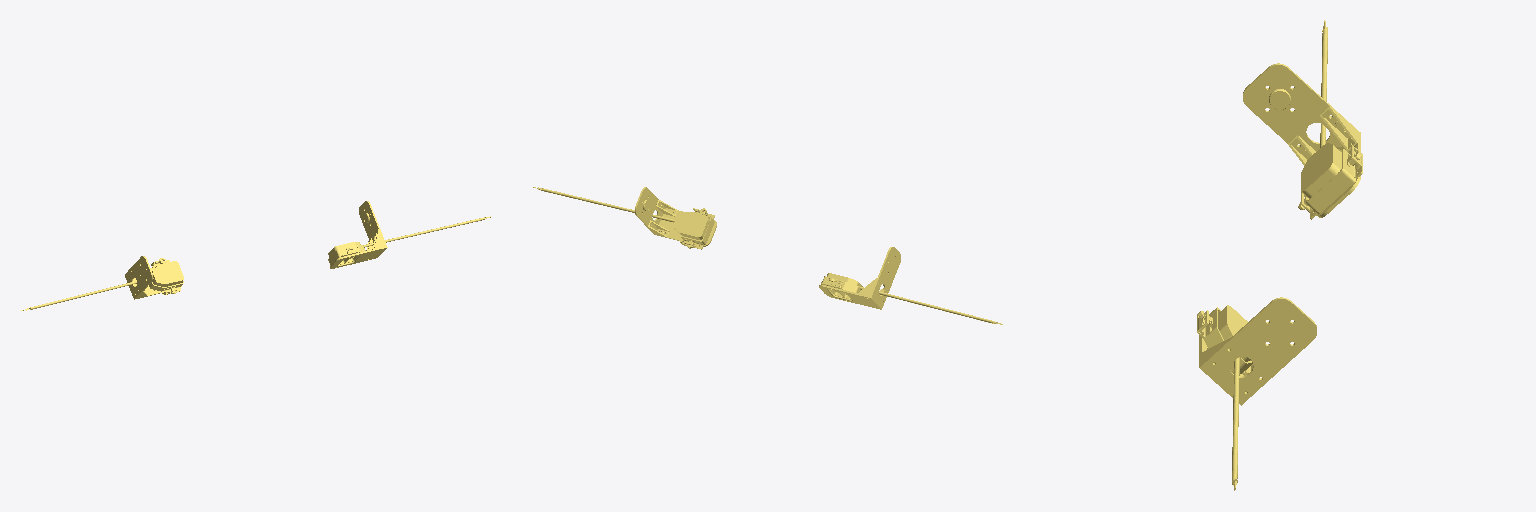
The robot description file, URDF, robot "panda":
<?xml version="1.0" ?>
<!-- =================================================================================== -->
<!-- |    This document was autogenerated by xacro from panda_arm.urdf.xacro           | -->
<!-- |    EDITING THIS FILE BY HAND IS NOT RECOMMENDED                                 | -->
<!-- =================================================================================== -->
<robot name="panda" xmlns:xacro="http://www.ros.org/wiki/xacro">
  <link name="world"/>
  <joint name="world_to_robot1" type="fixed">
    <origin rpy="0 0 0" xyz="0 0 0"/>
    <parent link="world"/>
    <child link="panda1_link0"/>
    <axis xyz="0 0 0"/>
  </joint>
  <link name="panda1_link0">
    <visual>
      <geometry>
        <mesh filename="package://franka_description/meshes/visual/link0.dae"/>
      </geometry>
    </visual>
    <collision>
      <geometry>
        <mesh filename="package://franka_description/meshes/collision/link0.stl"/>
      </geometry>
    </collision>
  </link>
  <link name="panda1_link1">
    <visual>
      <geometry>
        <mesh filename="package://franka_description/meshes/visual/link1.dae"/>
      </geometry>
    </visual>
    <collision>
      <geometry>
        <mesh filename="package://franka_description/meshes/collision/link1.stl"/>
      </geometry>
    </collision>
  </link>
  <joint name="franka1_panda_joint1" type="revolute">
    <safety_controller k_position="100.0" k_velocity="40.0" soft_lower_limit="-2.8973" soft_upper_limit="2.8973"/>
    <origin rpy="0 0 0" xyz="0 0 0.333"/>
    <parent link="panda1_link0"/>
    <child link="panda1_link1"/>
    <axis xyz="0 0 1"/>
    <limit effort="87" lower="-2.8973" upper="2.8973" velocity="2.1750"/>
  </joint>
  <link name="panda1_link2">
    <visual>
      <geometry>
        <mesh filename="package://franka_description/meshes/visual/link2.dae"/>
      </geometry>
    </visual>
    <collision>
      <geometry>
        <mesh filename="package://franka_description/meshes/collision/link2.stl"/>
      </geometry>
    </collision>
  </link>
  <joint name="franka1_panda_joint2" type="revolute">
    <safety_controller k_position="100.0" k_velocity="40.0" soft_lower_limit="-1.7628" soft_upper_limit="1.7628"/>
    <origin rpy="-1.57079632679 0 0" xyz="0 0 0"/>
    <parent link="panda1_link1"/>
    <child link="panda1_link2"/>
    <axis xyz="0 0 1"/>
    <limit effort="87" lower="-1.7628" upper="1.7628" velocity="2.1750"/>
  </joint>
  <link name="panda1_link3">
    <visual>
      <geometry>
        <mesh filename="package://franka_description/meshes/visual/link3.dae"/>
      </geometry>
    </visual>
    <collision>
      <geometry>
        <mesh filename="package://franka_description/meshes/collision/link3.stl"/>
      </geometry>
    </collision>
  </link>
  <joint name="franka1_panda_joint3" type="revolute">
    <safety_controller k_position="100.0" k_velocity="40.0" soft_lower_limit="-2.8973" soft_upper_limit="2.8973"/>
    <origin rpy="1.57079632679 0 0" xyz="0 -0.316 0"/>
    <parent link="panda1_link2"/>
    <child link="panda1_link3"/>
    <axis xyz="0 0 1"/>
    <limit effort="87" lower="-2.8973" upper="2.8973" velocity="2.1750"/>
  </joint>
  <link name="panda1_link4">
    <visual>
      <geometry>
        <mesh filename="package://franka_description/meshes/visual/link4.dae"/>
      </geometry>
    </visual>
    <collision>
      <geometry>
        <mesh filename="package://franka_description/meshes/collision/link4.stl"/>
      </geometry>
    </collision>
  </link>
  <joint name="franka1_panda_joint4" type="revolute">
    <safety_controller k_position="100.0" k_velocity="40.0" soft_lower_limit="-3.0718" soft_upper_limit="-0.0698"/>
    <origin rpy="1.57079632679 0 0" xyz="0.0825 0 0"/>
    <parent link="panda1_link3"/>
    <child link="panda1_link4"/>
    <axis xyz="0 0 1"/>
    <limit effort="87" lower="-3.0718" upper="-0.0698" velocity="2.1750"/>
  </joint>
  <link name="panda1_link5">
    <visual>
      <geometry>
        <mesh filename="package://franka_description/meshes/visual/link5.dae"/>
      </geometry>
    </visual>
    <collision>
      <geometry>
        <mesh filename="package://franka_description/meshes/collision/link5.stl"/>
      </geometry>
    </collision>
  </link>
  <joint name="franka1_panda_joint5" type="revolute">
    <safety_controller k_position="100.0" k_velocity="40.0" soft_lower_limit="-2.8973" soft_upper_limit="2.8973"/>
    <origin rpy="-1.57079632679 0 0" xyz="-0.0825 0.384 0"/>
    <parent link="panda1_link4"/>
    <child link="panda1_link5"/>
    <axis xyz="0 0 1"/>
    <limit effort="12" lower="-2.8973" upper="2.8973" velocity="2.6100"/>
  </joint>
  <link name="panda1_link6">
    <visual>
      <geometry>
        <mesh filename="package://franka_description/meshes/visual/link6.dae"/>
      </geometry>
    </visual>
    <collision>
      <geometry>
        <mesh filename="package://franka_description/meshes/collision/link6.stl"/>
      </geometry>
    </collision>
  </link>
  <joint name="franka1_panda_joint6" type="revolute">
    <safety_controller k_position="100.0" k_velocity="40.0" soft_lower_limit="-0.0175" soft_upper_limit="3.7525"/>
    <origin rpy="1.57079632679 0 0" xyz="0 0 0"/>
    <parent link="panda1_link5"/>
    <child link="panda1_link6"/>
    <axis xyz="0 0 1"/>
    <limit effort="12" lower="-0.0175" upper="3.7525" velocity="2.6100"/>
  </joint>
  <link name="panda1_link7">
    <visual>
      <geometry>
        <mesh filename="package://franka_description/meshes/visual/link7.dae"/>
      </geometry>
    </visual>
    <collision>
      <geometry>
        <mesh filename="package://franka_description/meshes/collision/link7.stl"/>
      </geometry>
    </collision>
  </link>
  <joint name="franka1_panda_joint7" type="revolute">
    <safety_controller k_position="100.0" k_velocity="40.0" soft_lower_limit="-2.8973" soft_upper_limit="2.8973"/>
    <origin rpy="1.57079632679 0 0" xyz="0.088 0 0"/>
    <parent link="panda1_link6"/>
    <child link="panda1_link7"/>
    <axis xyz="0 0 1"/>
    <limit effort="12" lower="-2.8973" upper="2.8973" velocity="2.6100"/>
  </joint>
  <link name="panda1_link8"/>
  <joint name="franka_panda_joint8" type="fixed">
    <origin rpy="0 0 0" xyz="0 0 0.107"/>
    <parent link="panda1_link7"/>
    <child link="panda1_link8"/>
    <axis xyz="0 0 0"/>
  </joint>
  <link name="ee1_link"/>
  <joint name="franka1_panda8_to_ee" type="fixed">
    <origin rpy="0 0 0.78539815" xyz="0 0 0"/>
    <parent link="panda1_link8"/>
    <child link="ee1_link"/>
    <axis xyz="0 0 0"/>
  </joint>
  <link name="franka1_instrument1">
    <visual>
      <geometry>
        <mesh filename="package://franka_description/meshes/instrument/instrument1.stl"/>
      </geometry>
      <material name="">
        <color rgba="1 0.93 0.54 1" />
      </material>
    </visual>
    <collision>
      <geometry>
        <mesh filename="package://franka_description/meshes/instrument/instrument1.stl"/>
      </geometry>
    </collision>
  </link>
  <joint name="franka1_ee_to_instrument1" type="fixed">
    <origin rpy="0 0 0" xyz="0 0 0"/>
    <parent link="ee1_link"/>
    <child link="franka1_instrument1"/>
    <axis xyz="0 0 0"/>
  </joint>
  <link name="franka1_instrument2">
    <visual>
      <geometry>
        <mesh filename="package://franka_description/meshes/instrument/2.stl"/>
      </geometry>
      <material name="">
        <color rgba="1 0.93 0.54 1" />
      </material>
    </visual>
    <collision>
      <geometry>
        <mesh filename="package://franka_description/meshes/instrument/2.stl"/>
      </geometry>
    </collision>
  </link>
  <joint name="franka1_instrument1_to_2" type="revolute">
    <origin rpy="-0.0117919678 0 0" xyz="0 -0.09102 0.36"/>
    <parent link="franka1_instrument1"/>
    <child link="franka1_instrument2"/>
    <axis xyz="0 0 1"/>
    <limit effort="12" lower="-3.14" upper="3.14" velocity="2.6100"/>
  </joint>
  <link name="franka1_instrument3">
    <visual>
      <geometry>
        <mesh filename="package://franka_description/meshes/instrument/3.stl"/>
      </geometry>
      <material name="">
        <color rgba="1 0.93 0.54 1" />
      </material>
    </visual>
    <collision>
      <geometry>
        <mesh filename="package://franka_description/meshes/instrument/3.stl"/>
      </geometry>
    </collision>
  </link>
  <joint name="franka1_instrument2_to_3" type="revolute">
    <origin rpy="0 0 0" xyz="0 0 0.009"/>
    <parent link="franka1_instrument2"/>
    <child link="franka1_instrument3"/>
    <axis xyz="1 0 0"/>
    <limit effort="12" lower="-1.5" upper="1.5" velocity="2.6100"/>
  </joint>
  <link name="franka1_instrument4">
    <visual>
      <geometry>
        <mesh filename="package://franka_description/meshes/instrument/4.stl"/>
      </geometry>
      <material name="">
        <color rgba="1 0.93 0.54 1" />
      </material>
    </visual>
    <collision>
      <geometry>
        <mesh filename="package://franka_description/meshes/instrument/4.stl"/>
      </geometry>
    </collision>
  </link>
  <joint name="franka1_instrument3_to_4" type="revolute">
    <origin rpy="0 0 0" xyz="0 0 0.009"/>
    <parent link="franka1_instrument3"/>
    <child link="franka1_instrument4"/>
    <axis xyz="0 1 0"/>
    <limit effort="12" lower="-1.5" upper="1.5" velocity="2.6100"/>
  </joint>
  <link name="franka1_tool"/>
  <joint name="franka1_instrument4_to_tool" type="fixed">
    <origin rpy="0 0 0" xyz="0 0 0.022"/>
    <parent link="franka1_instrument4"/>
    <child link="franka1_tool"/>
    <axis xyz="0 0 0"/>
  </joint>
  <link name="franka1_tool_ik"/>
  <joint name="franka1_instrument1_to_toolik" type="fixed">
    <origin rpy="-0.0117919678 0 0" xyz="0 -0.09102 0.4"/>
    <parent link="franka1_instrument1"/>
    <child link="franka1_tool_ik"/>
    <axis xyz="0 0 0"/>
  </joint>














  <joint name="world_to_robot2" type="fixed">
    <origin rpy="0 0 3.1415926" xyz="1.5 0 0"/>
    <parent link="world"/>
    <child link="panda2_link0"/>
    <axis xyz="0 0 0"/>
  </joint>
  <link name="panda2_link0">
    <visual>
      <geometry>
        <mesh filename="package://franka_description/meshes/visual/link0.dae"/>
      </geometry>
    </visual>
    <collision>
      <geometry>
        <mesh filename="package://franka_description/meshes/collision/link0.stl"/>
      </geometry>
    </collision>
  </link>
  <link name="panda2_link1">
    <visual>
      <geometry>
        <mesh filename="package://franka_description/meshes/visual/link1.dae"/>
      </geometry>
    </visual>
    <collision>
      <geometry>
        <mesh filename="package://franka_description/meshes/collision/link1.stl"/>
      </geometry>
    </collision>
  </link>
  <joint name="franka2_panda_joint1" type="revolute">
    <safety_controller k_position="100.0" k_velocity="40.0" soft_lower_limit="-2.8973" soft_upper_limit="2.8973"/>
    <origin rpy="0 0 0" xyz="0 0 0.333"/>
    <parent link="panda2_link0"/>
    <child link="panda2_link1"/>
    <axis xyz="0 0 1"/>
    <limit effort="87" lower="-2.8973" upper="2.8973" velocity="2.1750"/>
  </joint>
  <link name="panda2_link2">
    <visual>
      <geometry>
        <mesh filename="package://franka_description/meshes/visual/link2.dae"/>
      </geometry>
    </visual>
    <collision>
      <geometry>
        <mesh filename="package://franka_description/meshes/collision/link2.stl"/>
      </geometry>
    </collision>
  </link>
  <joint name="franka2_panda_joint2" type="revolute">
    <safety_controller k_position="100.0" k_velocity="40.0" soft_lower_limit="-1.7628" soft_upper_limit="1.7628"/>
    <origin rpy="-1.57079632679 0 0" xyz="0 0 0"/>
    <parent link="panda2_link1"/>
    <child link="panda2_link2"/>
    <axis xyz="0 0 1"/>
    <limit effort="87" lower="-1.7628" upper="1.7628" velocity="2.1750"/>
  </joint>
  <link name="panda2_link3">
    <visual>
      <geometry>
        <mesh filename="package://franka_description/meshes/visual/link3.dae"/>
      </geometry>
    </visual>
    <collision>
      <geometry>
        <mesh filename="package://franka_description/meshes/collision/link3.stl"/>
      </geometry>
    </collision>
  </link>
  <joint name="franka2_panda_joint3" type="revolute">
    <safety_controller k_position="100.0" k_velocity="40.0" soft_lower_limit="-2.8973" soft_upper_limit="2.8973"/>
    <origin rpy="1.57079632679 0 0" xyz="0 -0.316 0"/>
    <parent link="panda2_link2"/>
    <child link="panda2_link3"/>
    <axis xyz="0 0 1"/>
    <limit effort="87" lower="-2.8973" upper="2.8973" velocity="2.1750"/>
  </joint>
  <link name="panda2_link4">
    <visual>
      <geometry>
        <mesh filename="package://franka_description/meshes/visual/link4.dae"/>
      </geometry>
    </visual>
    <collision>
      <geometry>
        <mesh filename="package://franka_description/meshes/collision/link4.stl"/>
      </geometry>
    </collision>
  </link>
  <joint name="franka2_panda_joint4" type="revolute">
    <safety_controller k_position="100.0" k_velocity="40.0" soft_lower_limit="-3.0718" soft_upper_limit="-0.0698"/>
    <origin rpy="1.57079632679 0 0" xyz="0.0825 0 0"/>
    <parent link="panda2_link3"/>
    <child link="panda2_link4"/>
    <axis xyz="0 0 1"/>
    <limit effort="87" lower="-3.0718" upper="-0.0698" velocity="2.1750"/>
  </joint>
  <link name="panda2_link5">
    <visual>
      <geometry>
        <mesh filename="package://franka_description/meshes/visual/link5.dae"/>
      </geometry>
    </visual>
    <collision>
      <geometry>
        <mesh filename="package://franka_description/meshes/collision/link5.stl"/>
      </geometry>
    </collision>
  </link>
  <joint name="franka2_panda_joint5" type="revolute">
    <safety_controller k_position="100.0" k_velocity="40.0" soft_lower_limit="-2.8973" soft_upper_limit="2.8973"/>
    <origin rpy="-1.57079632679 0 0" xyz="-0.0825 0.384 0"/>
    <parent link="panda2_link4"/>
    <child link="panda2_link5"/>
    <axis xyz="0 0 1"/>
    <limit effort="12" lower="-2.8973" upper="2.8973" velocity="2.6100"/>
  </joint>
  <link name="panda2_link6">
    <visual>
      <geometry>
        <mesh filename="package://franka_description/meshes/visual/link6.dae"/>
      </geometry>
    </visual>
    <collision>
      <geometry>
        <mesh filename="package://franka_description/meshes/collision/link6.stl"/>
      </geometry>
    </collision>
  </link>
  <joint name="franka2_panda_joint6" type="revolute">
    <safety_controller k_position="100.0" k_velocity="40.0" soft_lower_limit="-0.0175" soft_upper_limit="3.7525"/>
    <origin rpy="1.57079632679 0 0" xyz="0 0 0"/>
    <parent link="panda2_link5"/>
    <child link="panda2_link6"/>
    <axis xyz="0 0 1"/>
    <limit effort="12" lower="-0.0175" upper="3.7525" velocity="2.6100"/>
  </joint>
  <link name="panda2_link7">
    <visual>
      <geometry>
        <mesh filename="package://franka_description/meshes/visual/link7.dae"/>
      </geometry>
    </visual>
    <collision>
      <geometry>
        <mesh filename="package://franka_description/meshes/collision/link7.stl"/>
      </geometry>
    </collision>
  </link>
  <joint name="franka2_panda_joint7" type="revolute">
    <safety_controller k_position="100.0" k_velocity="40.0" soft_lower_limit="-2.8973" soft_upper_limit="2.8973"/>
    <origin rpy="1.57079632679 0 0" xyz="0.088 0 0"/>
    <parent link="panda2_link6"/>
    <child link="panda2_link7"/>
    <axis xyz="0 0 1"/>
    <limit effort="12" lower="-2.8973" upper="2.8973" velocity="2.6100"/>
  </joint>
  <link name="panda2_link8"/>
  <joint name="franka2_panda_joint8" type="fixed">
    <origin rpy="0 0 0" xyz="0 0 0.107"/>
    <parent link="panda2_link7"/>
    <child link="panda2_link8"/>
    <axis xyz="0 0 0"/>
  </joint>
  <link name="ee2_link"/>
  <joint name="franka2_panda8_to_ee" type="fixed">
    <origin rpy="0 0 0.78539815" xyz="0 0 0"/>
    <parent link="panda2_link8"/>
    <child link="ee2_link"/>
    <axis xyz="0 0 0"/>
  </joint>
  <link name="franka2_instrument1">
    <visual>
      <geometry>
        <mesh filename="package://franka_description/meshes/instrument/instrument1.stl"/>
      </geometry>
      <material name="">
        <color rgba="1 0.93 0.54 1" />
      </material>
    </visual>
    <collision>
      <geometry>
        <mesh filename="package://franka_description/meshes/instrument/instrument1.stl"/>
      </geometry>
    </collision>
  </link>
  <joint name="franka2_ee_to_instrument1" type="fixed">
    <origin rpy="0 0 0" xyz="0 0 0"/>
    <parent link="ee2_link"/>
    <child link="franka2_instrument1"/>
    <axis xyz="0 0 0"/>
  </joint>
  <link name="franka2_instrument2">
    <visual>
      <geometry>
        <mesh filename="package://franka_description/meshes/instrument/2.stl"/>
      </geometry>
      <material name="">
        <color rgba="1 0.93 0.54 1" />
      </material>
    </visual>
    <collision>
      <geometry>
        <mesh filename="package://franka_description/meshes/instrument/2.stl"/>
      </geometry>
    </collision>
  </link>
  <joint name="franka2_instrument1_to_2" type="revolute">
    <origin rpy="-0.0117919678 0 0" xyz="0 -0.09102 0.36"/>
    <parent link="franka2_instrument1"/>
    <child link="franka2_instrument2"/>
    <axis xyz="0 0 1"/>
    <limit effort="12" lower="-3.14" upper="3.14" velocity="2.6100"/>
  </joint>
  <link name="franka2_instrument3">
    <visual>
      <geometry>
        <mesh filename="package://franka_description/meshes/instrument/3.stl"/>
      </geometry>
      <material name="">
        <color rgba="1 0.93 0.54 1" />
      </material>
    </visual>
    <collision>
      <geometry>
        <mesh filename="package://franka_description/meshes/instrument/3.stl"/>
      </geometry>
    </collision>
  </link>
  <joint name="franka2_instrument2_to_3" type="revolute">
    <origin rpy="0 0 0" xyz="0 0 0.009"/>
    <parent link="franka2_instrument2"/>
    <child link="franka2_instrument3"/>
    <axis xyz="1 0 0"/>
    <limit effort="12" lower="-1.5" upper="1.5" velocity="2.6100"/>
  </joint>
  <link name="franka2_instrument4">
    <visual>
      <geometry>
        <mesh filename="package://franka_description/meshes/instrument/4.stl"/>
      </geometry>
      <material name="">
        <color rgba="1 0.93 0.54 1" />
      </material>
    </visual>
    <collision>
      <geometry>
        <mesh filename="package://franka_description/meshes/instrument/4.stl"/>
      </geometry>
    </collision>
  </link>
  <joint name="franka2_instrument3_to_4" type="revolute">
    <origin rpy="0 0 0" xyz="0 0 0.009"/>
    <parent link="franka2_instrument3"/>
    <child link="franka2_instrument4"/>
    <axis xyz="0 1 0"/>
    <limit effort="12" lower="-1.5" upper="1.5" velocity="2.6100"/>
  </joint>
  <link name="franka2_tool"/>
  <joint name="franka2_instrument4_to_tool" type="fixed">
    <origin rpy="0 0 0" xyz="0 0 0.022"/>
    <parent link="franka2_instrument4"/>
    <child link="franka2_tool"/>
    <axis xyz="0 0 0"/>
  </joint>
  <link name="franka2_tool_ik"/>
  <joint name="franka2_instrument1_to_toolik" type="fixed">
    <origin rpy="-0.0117919678 0 0" xyz="0 -0.09102 0.4"/>
    <parent link="franka2_instrument1"/>
    <child link="franka2_tool_ik"/>
    <axis xyz="0 0 0"/>
  </joint>



</robot>

--- Facts derived from the render (not from the file) ---
3 views of the same robot in one strip: view 1: azimuth 30°, elevation 25°; view 2: azimuth 150°, elevation 25°; view 3: azimuth 270°, elevation 25° (orthographic).
Robot: panda — 33 links, 32 joints (20 revolute, 12 fixed); root link world; default pose: all joints at 0 but 2 set to mid-range because 0 is outside their limits (franka1_panda_joint4 = -1.57, franka2_panda_joint4 = -1.57).
Visible links, largest first — view 1: franka1_instrument1, franka2_instrument1; view 2: franka2_instrument1, franka1_instrument1; view 3: franka1_instrument1, franka2_instrument1.
Link boxes in pixels (x1=…): franka1_instrument1: x1=32, y1=256, x2=183, y2=309; franka2_instrument1: x1=328, y1=201, x2=480, y2=268; franka2_instrument1: x1=544, y1=187, x2=716, y2=249; franka1_instrument1: x1=819, y1=247, x2=991, y2=322; franka1_instrument1: x1=1243, y1=30, x2=1362, y2=219; franka2_instrument1: x1=1197, y1=297, x2=1316, y2=478.
Bounding box of the posed robot: 1.58 × 0.2369 × 0.1716 m (x, y, z).
8 mesh visuals loaded from 12 distinct referenced files (4 binary STL); not drawn: 16 (reference not matched to a file when rendering).